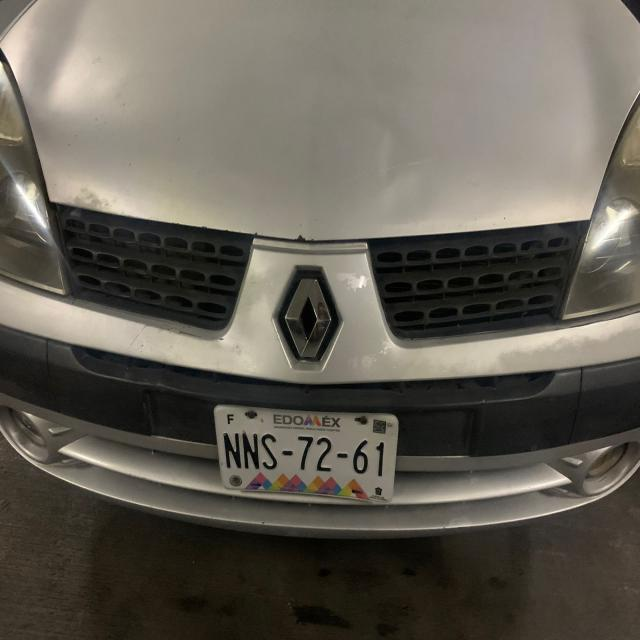placa: (215, 428, 392, 482)
